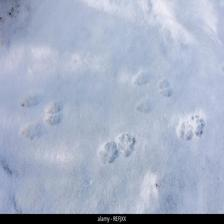rabbit: (94, 131, 138, 169), (170, 114, 209, 144)
